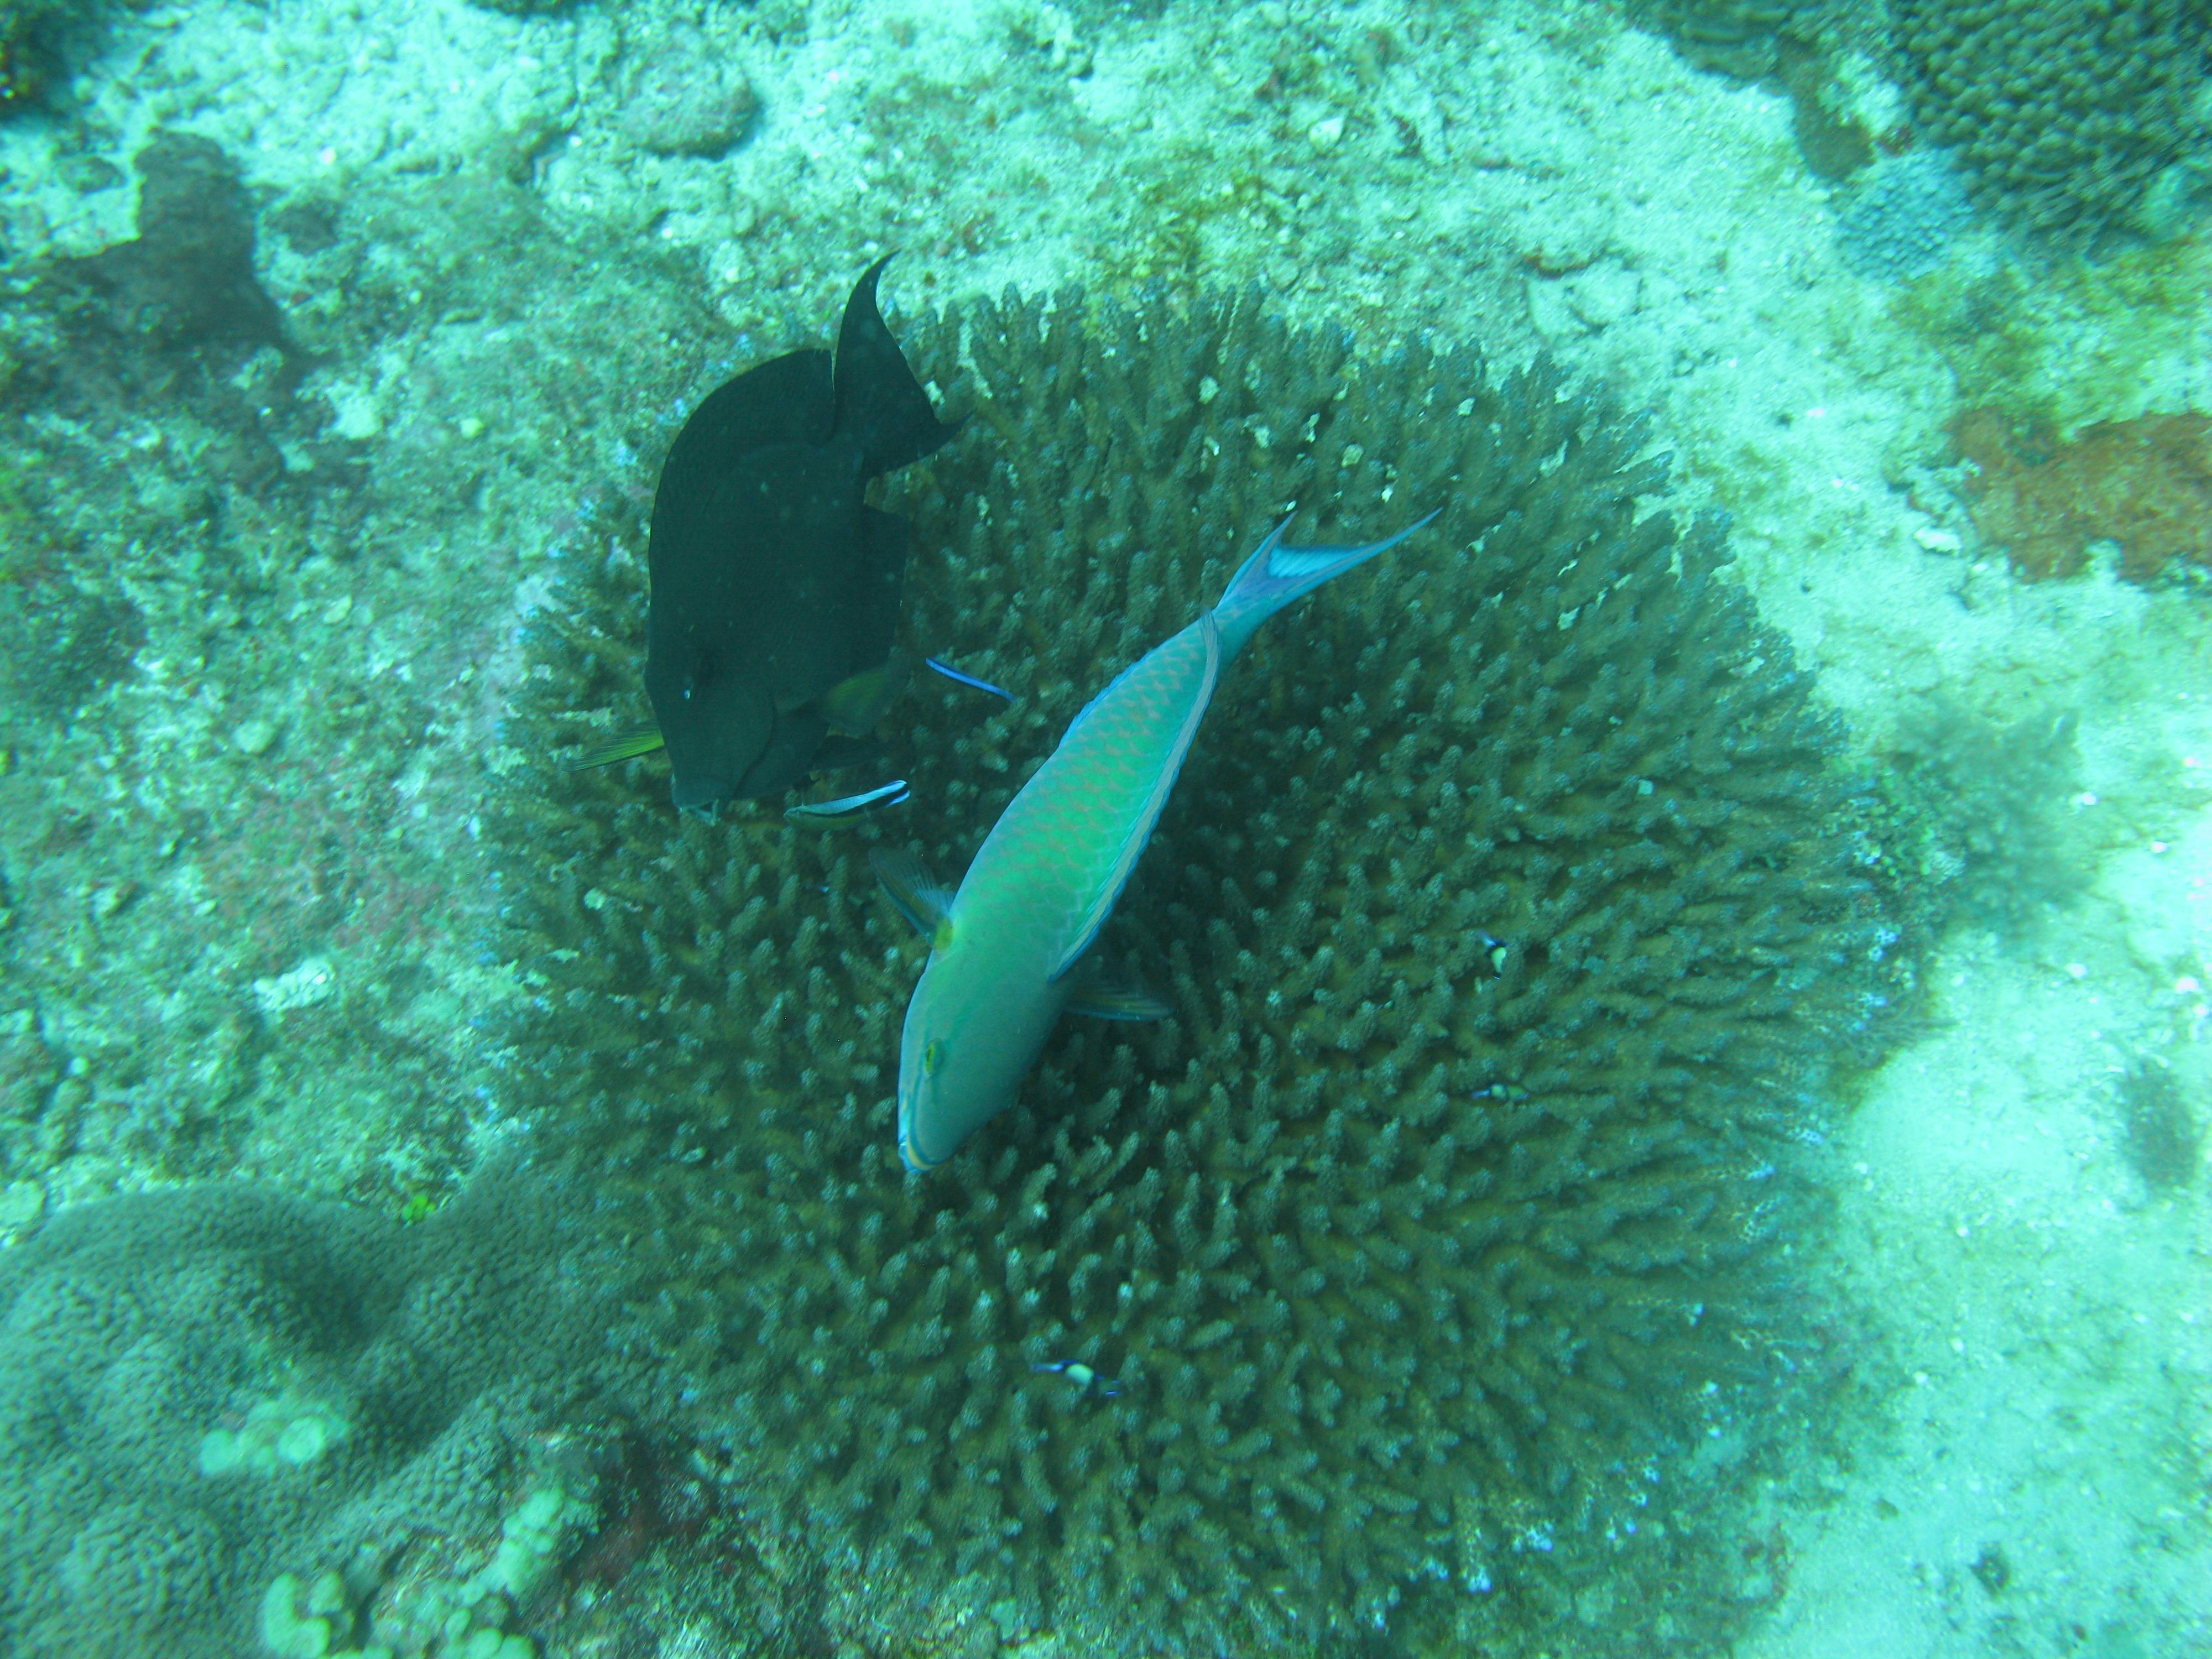Fish: (528, 216, 984, 873)
